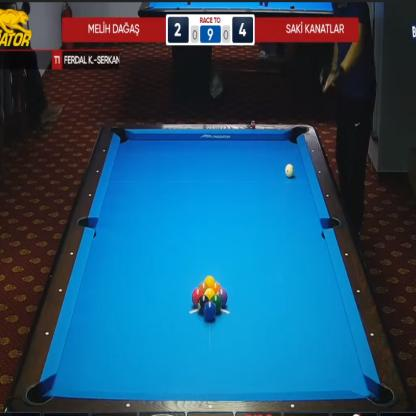Ball: (284, 164, 294, 178)
